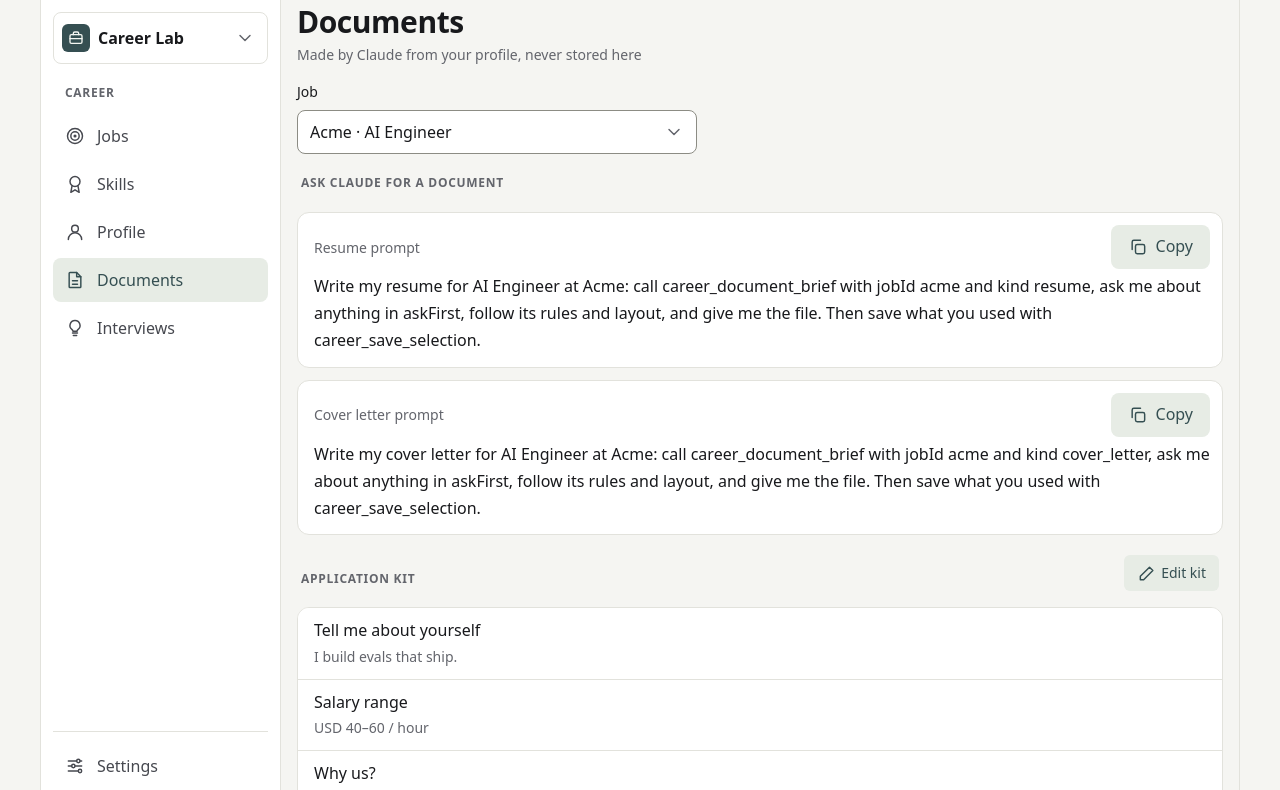
Documents › switches jobs from the picker, kept in the URL
Select "Globex · Frontend Engineer" in the dropdown labelled "Job": (483, 132) 310,111 -> 656,153
(page scrolled)
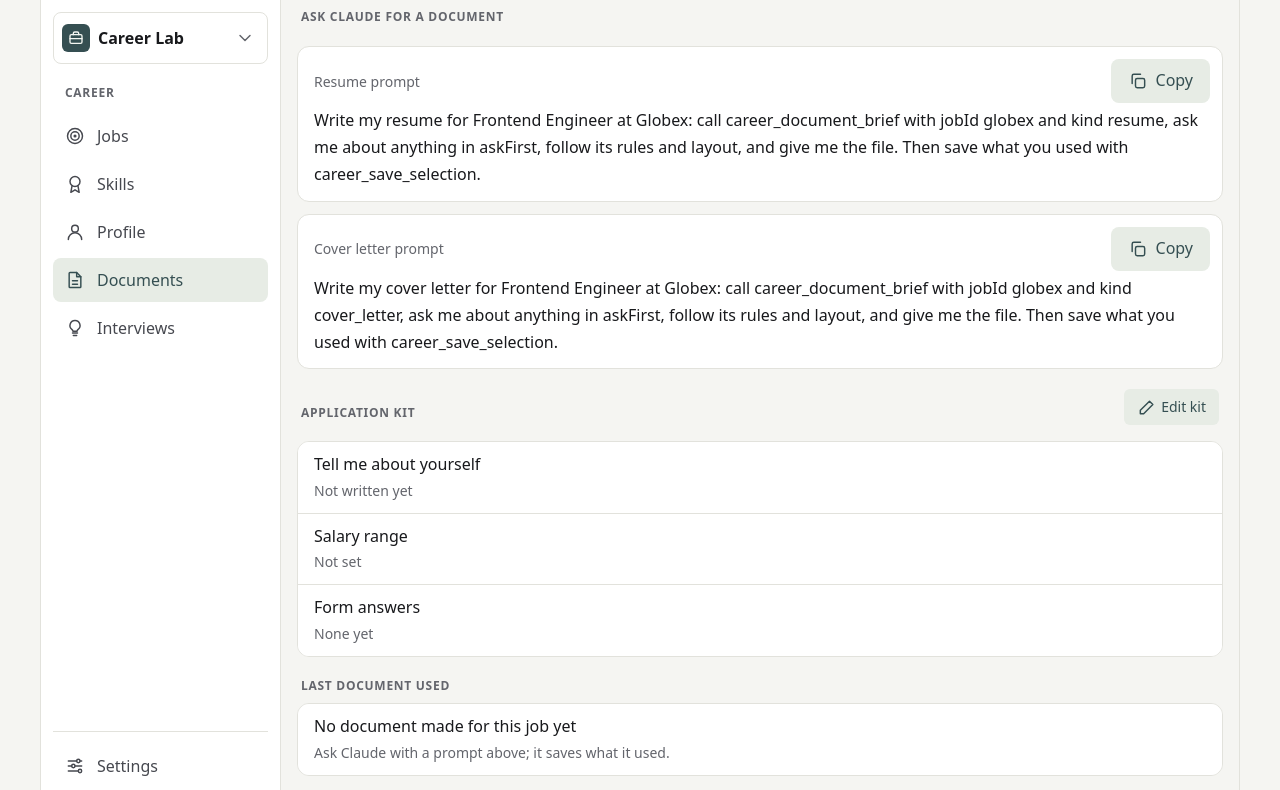
Check: the text "No document made for this job yet" is shown, box 314,715 -> 576,737
Check: the element "Application kit" shows "Not set", box 314,552 -> 362,571
